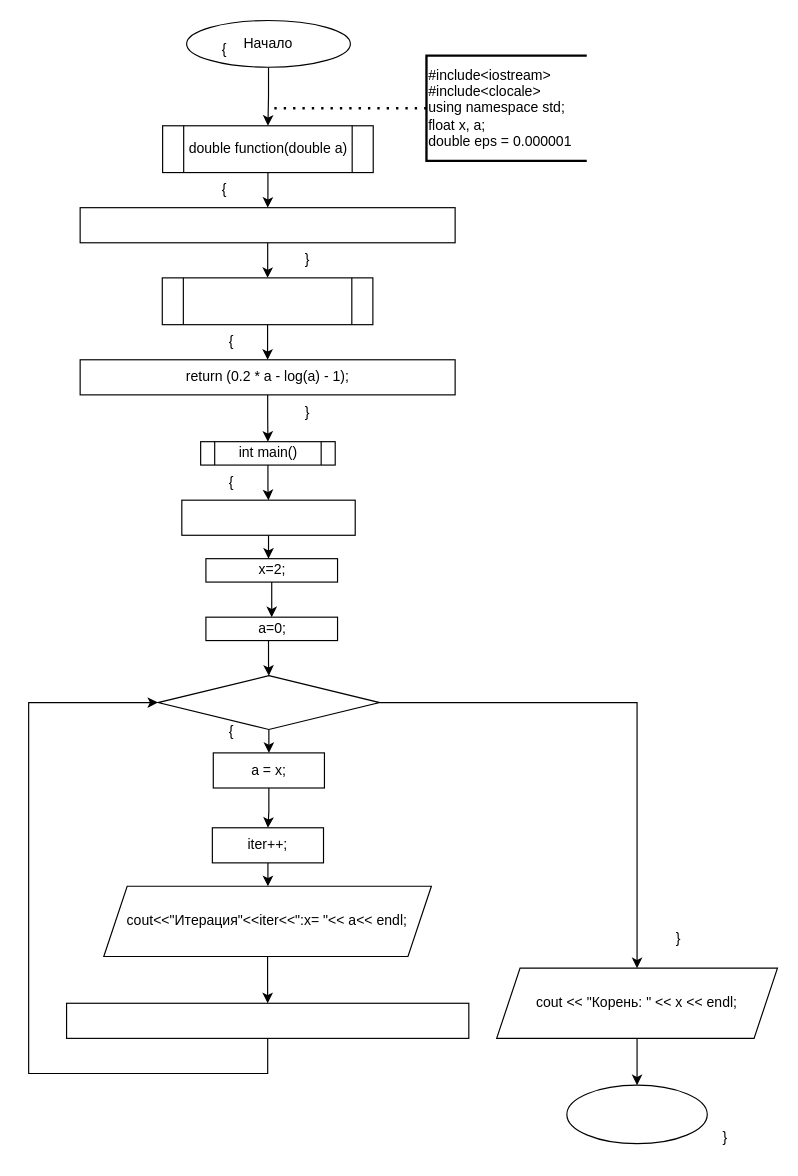
Some shapes in this 798 by 1176 pixel diagram are drawn without their labels. Here are the shapes that lost their labels. From the top down, the centre of each, then its label:
point 267,225: return (pow(a, 2)) * 0.1 - a * log(a);
point 267,301: double fd(double a)
point 268,517: setlocale(LC_ALL,"Rus");
point 268,702: while (abs(x - a) > eps)
point 267,1020: x = a - function(a) / fd(a);
point 636,1114: return 0;
